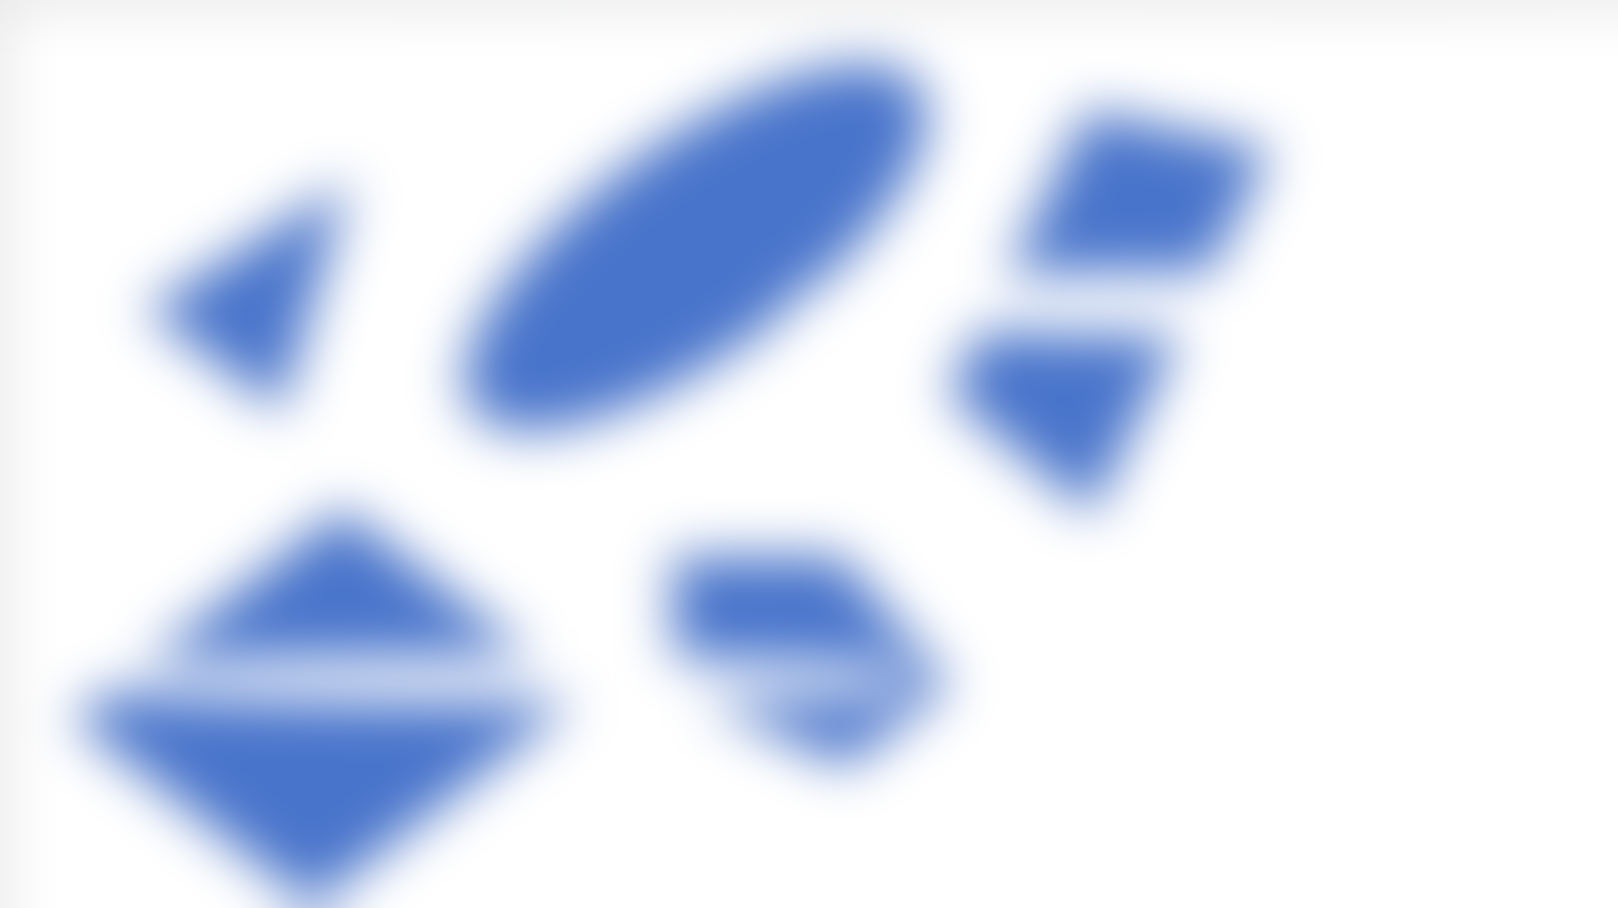circle: (448, 47, 933, 433)
parallelogram: (70, 485, 577, 904)
pentagon: (661, 522, 968, 804)
trapezium: (949, 72, 1255, 511)
triangle: (138, 189, 368, 386)
